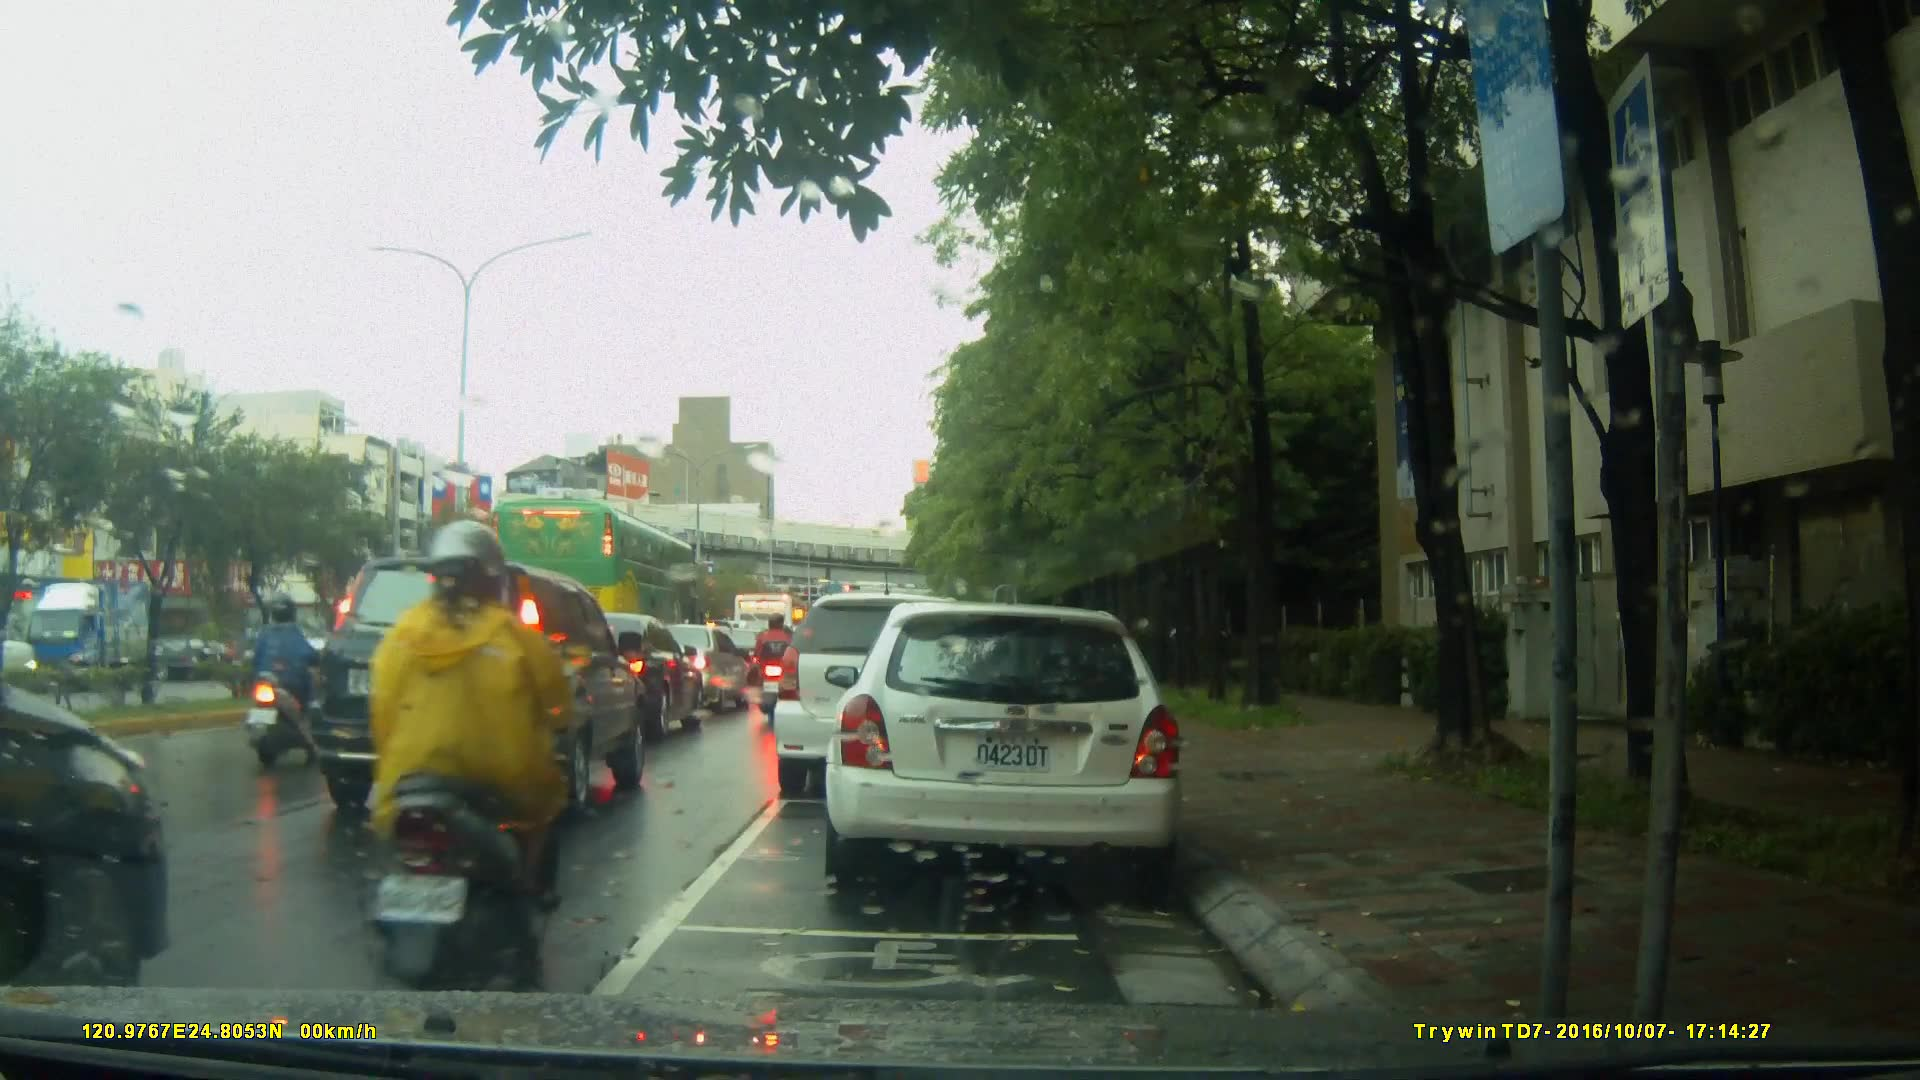rider: (353, 521, 584, 991), (245, 598, 336, 769), (749, 612, 800, 721)
vehicle: (831, 592, 1196, 897), (325, 554, 627, 818), (770, 592, 999, 801), (490, 495, 706, 659), (518, 611, 704, 746), (22, 576, 164, 684), (634, 623, 755, 716)
